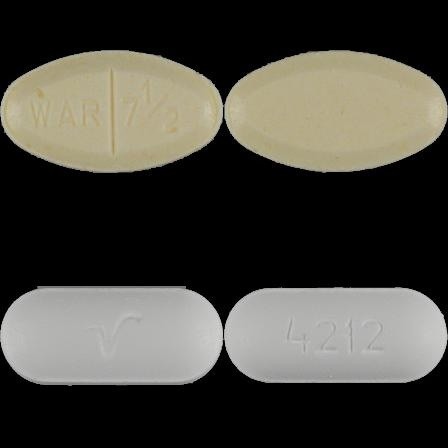63629-4417: (0, 0, 224, 224)
